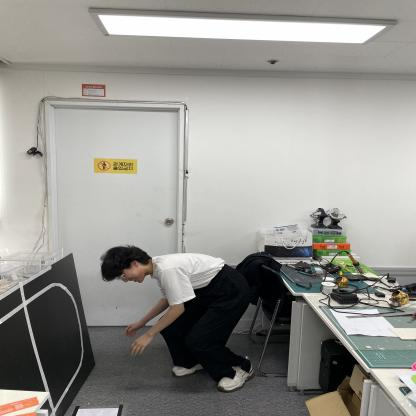fall: (98, 246, 260, 392)
